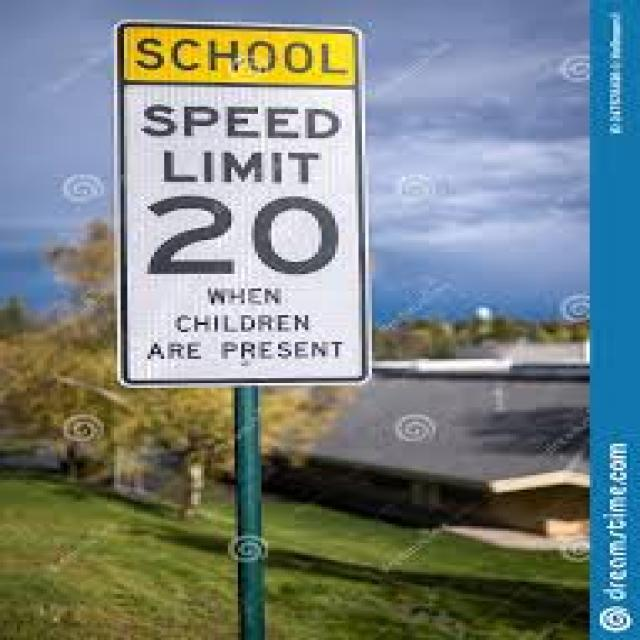speedLimit20: (116, 79, 360, 380)
